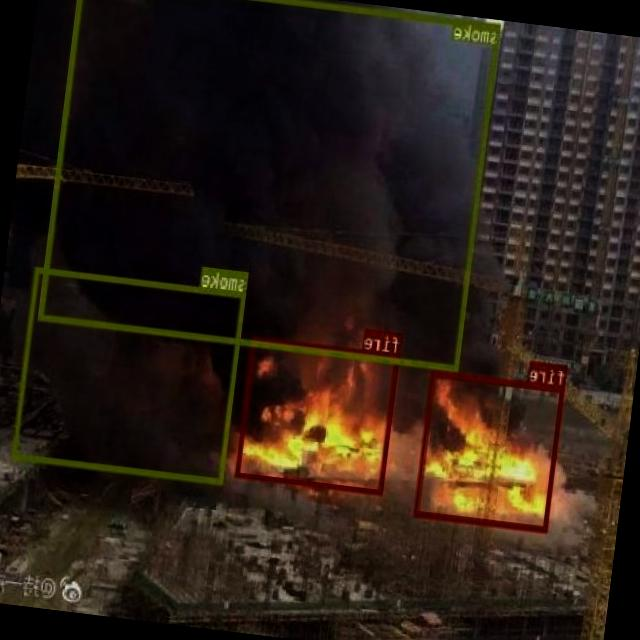fire: (236, 335, 400, 494), (414, 370, 566, 531)
smoke: (39, 0, 501, 371), (12, 265, 246, 484)
